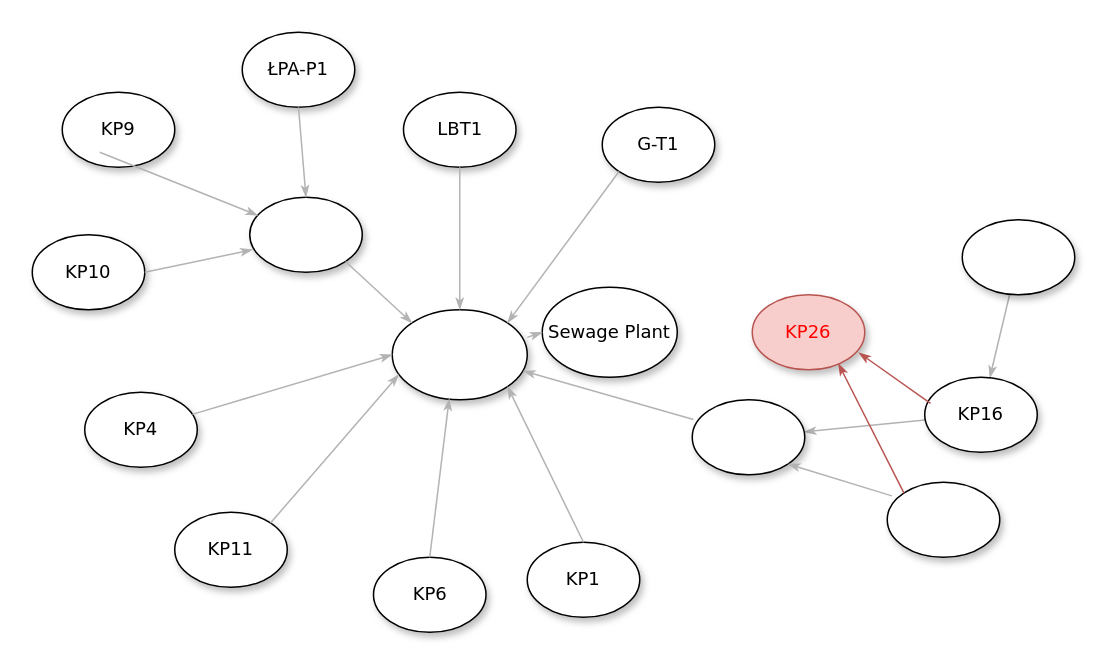
The diagram is 1110 pixels wide and 669 high, and some of its shapes have lost their labels. Each missing label, with the centre of its shape:
KP2: pixel 749 438
KP25: pixel 944 521
KP7: pixel 1019 258
KP8: pixel 306 236
M1: pixel 460 356
